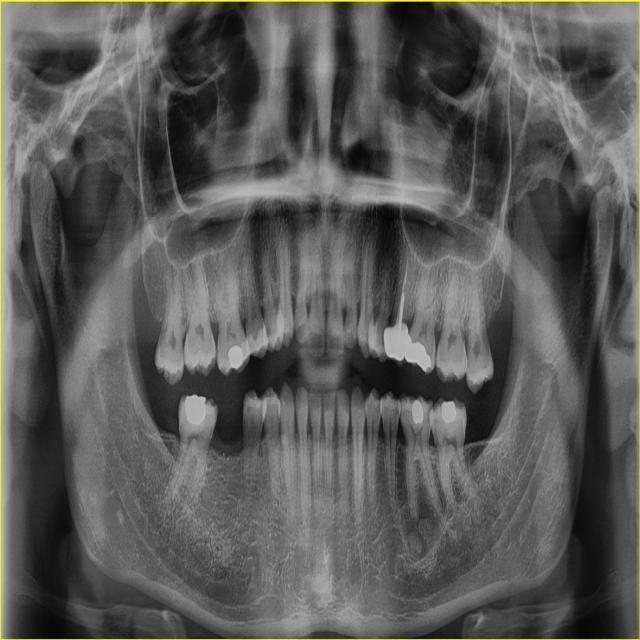Caries: (394, 407, 400, 419)
Crown: (384, 323, 408, 365)
Filling: (404, 335, 432, 374), (185, 395, 206, 425), (229, 345, 244, 369), (442, 401, 457, 423), (412, 400, 423, 424)
Missing teeth: (209, 396, 249, 456)
Root Canal Treatment: (399, 261, 408, 325)
